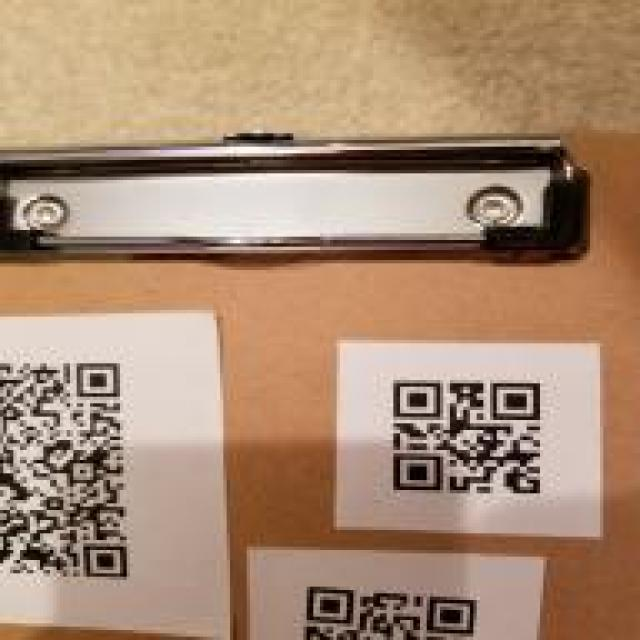QR_CODE: (3, 340, 144, 590), (380, 363, 552, 505), (290, 573, 495, 640)
